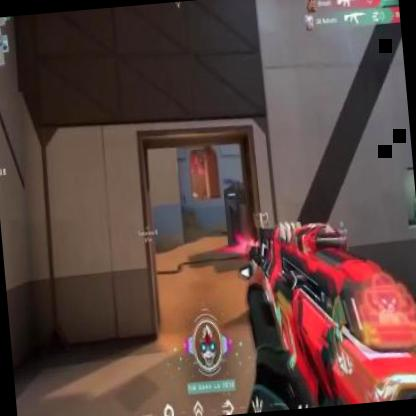enemy: (192, 190, 198, 202)
enemy_head: (194, 191, 195, 194)
